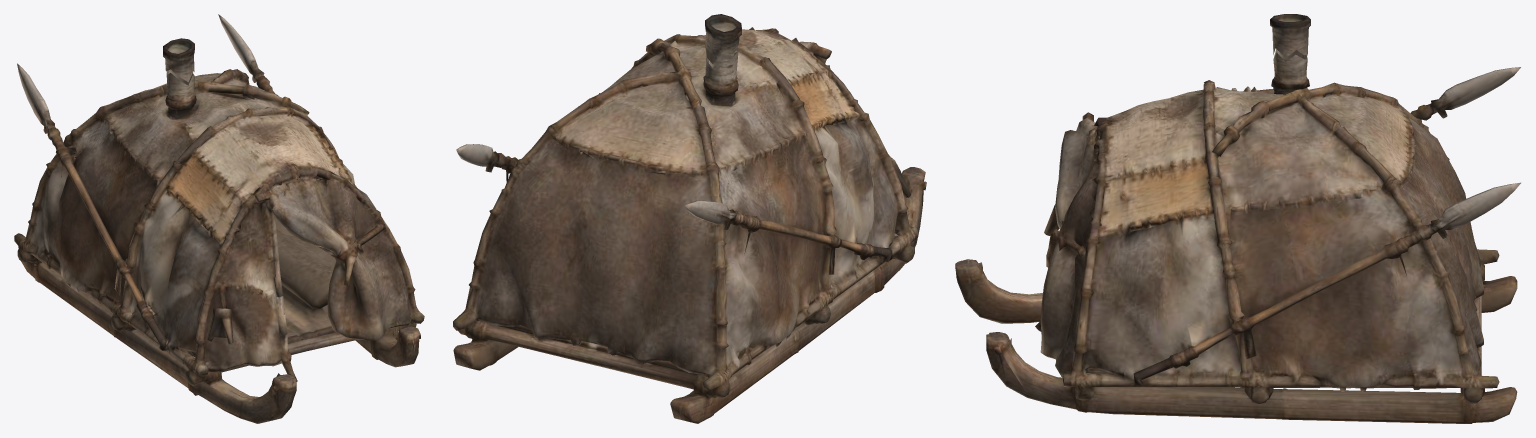
Rendered from kf_ice_hut_b.glb.
3 views of the same model, side by side, from view 1: azimuth 30°, elevation 25°; view 2: azimuth 150°, elevation 25°; view 3: azimuth 270°, elevation 25° (orthographic). The views are drawn at different scales.
Visible parts, largest first — view 1: kf_ice_hut_b; view 2: kf_ice_hut_b; view 3: kf_ice_hut_b.
Part boxes in pixels (bbox=[...]): kf_ice_hut_b: bbox=[14, 14, 424, 423]; kf_ice_hut_b: bbox=[453, 14, 926, 423]; kf_ice_hut_b: bbox=[955, 14, 1520, 423].
Bounding box in the file's own units: 1.51 × 1.67 × 2.6.
1 material, 1 textured.
